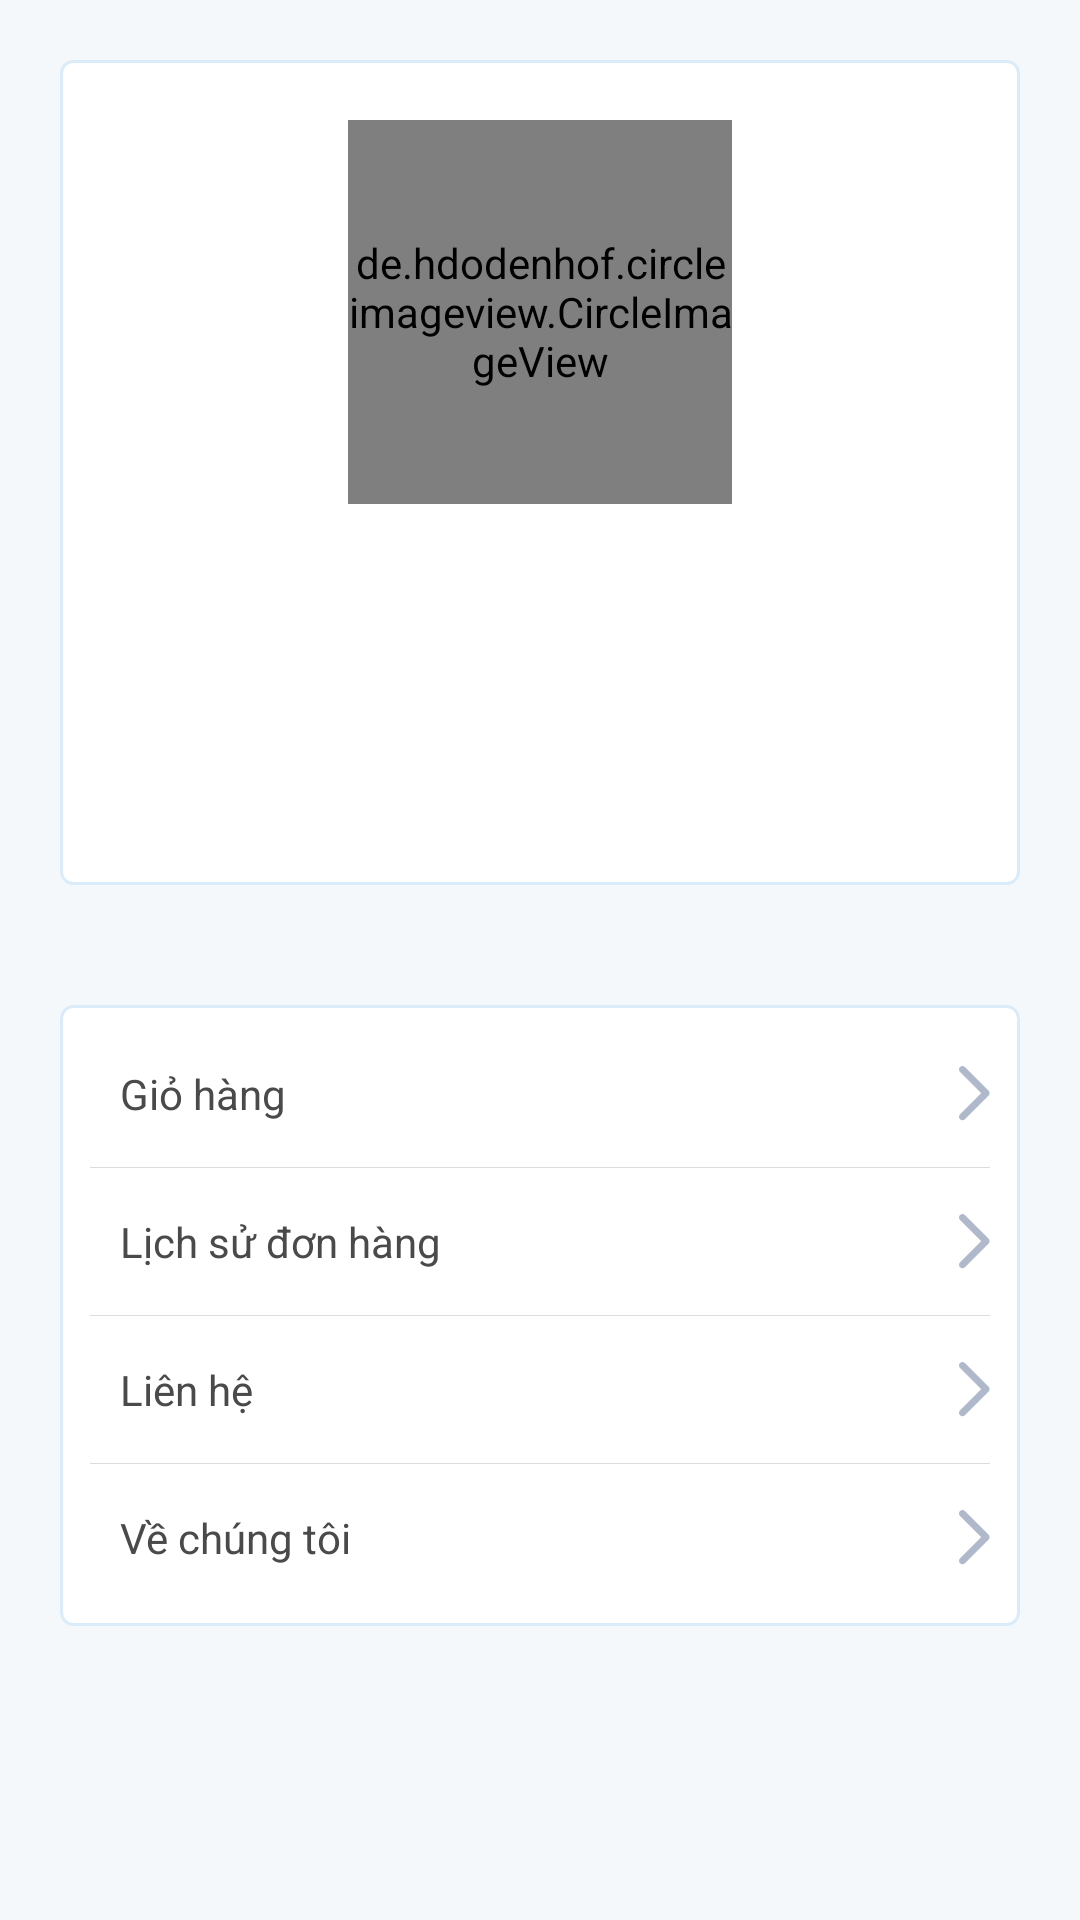

Screen size 1080 × 1920. Icon name, then its box in pixels as [x1,y1,x2,y2]:
arrow right: [959,1066,990,1120], [959,1214,990,1268], [959,1362,990,1416], [959,1510,990,1564]
